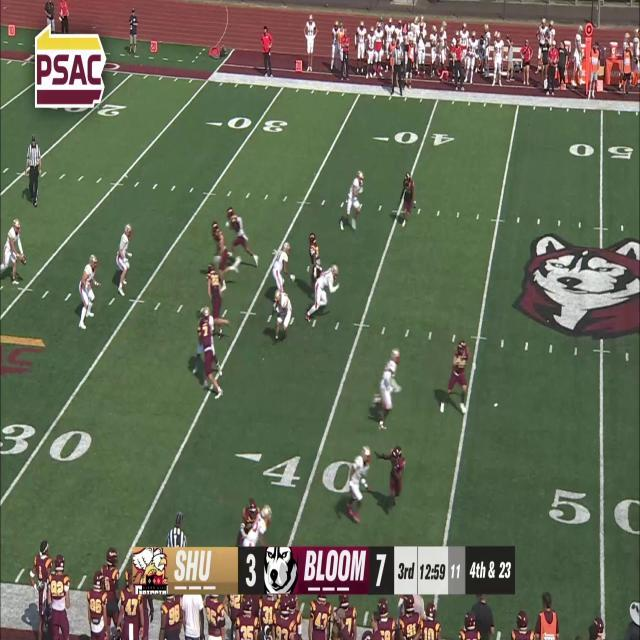football: (20, 252, 28, 266)
